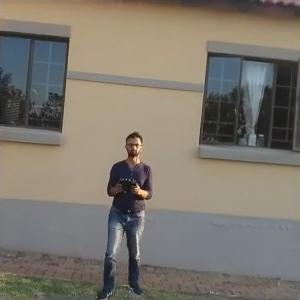follow: (89, 126, 155, 298)
